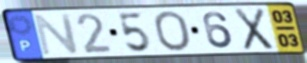2: (75, 12, 114, 55)
5: (116, 11, 152, 54)
6: (201, 10, 235, 50)
N: (32, 12, 81, 57)
O: (152, 9, 194, 53)
X: (232, 7, 275, 52)
